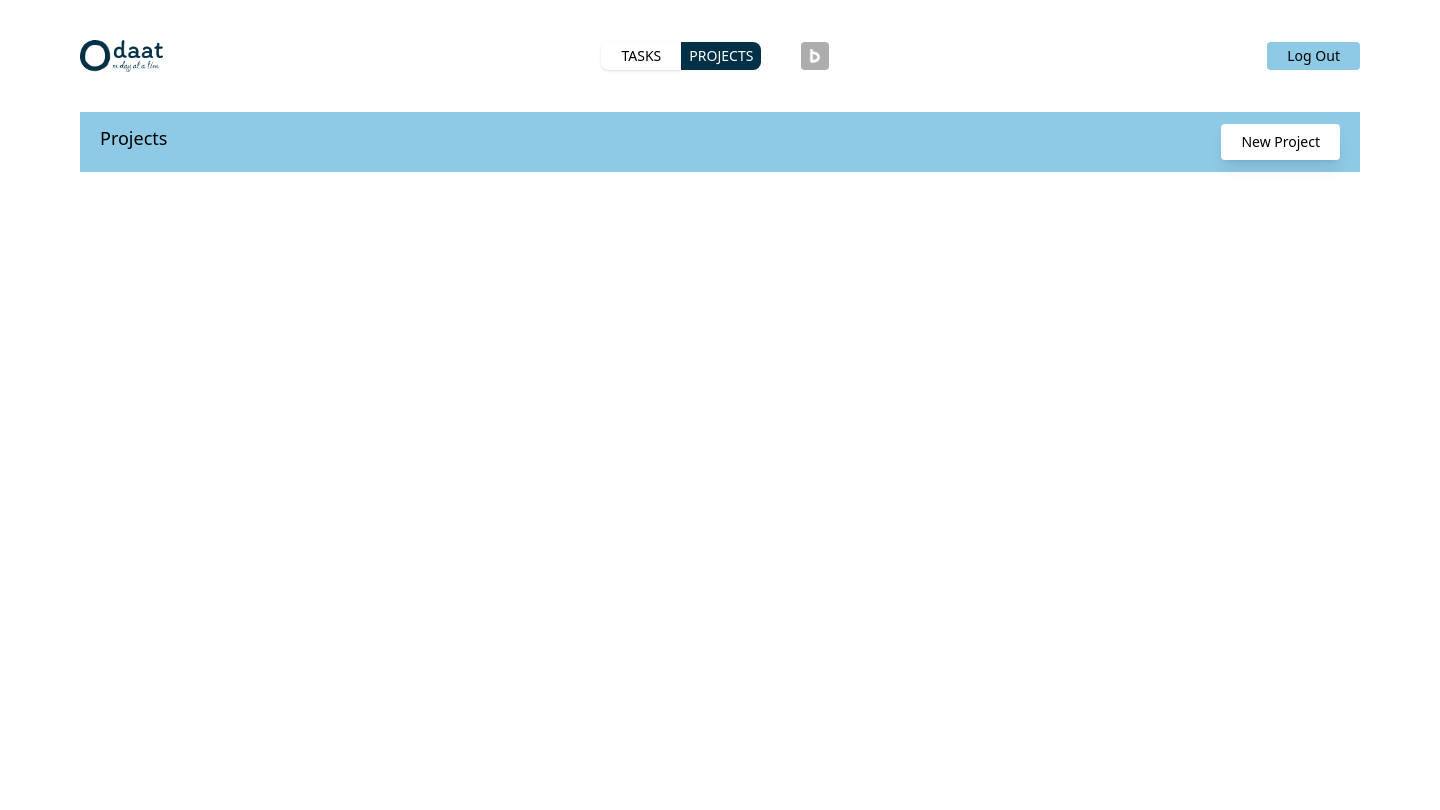
Test: Projects Component › open and close NewProjectModal
Expected: the heading "Projects" is shown, [100,124,167,160]
# Click on New Project button
Click the button "New Project": [1281, 142] box [1221,124,1340,160]
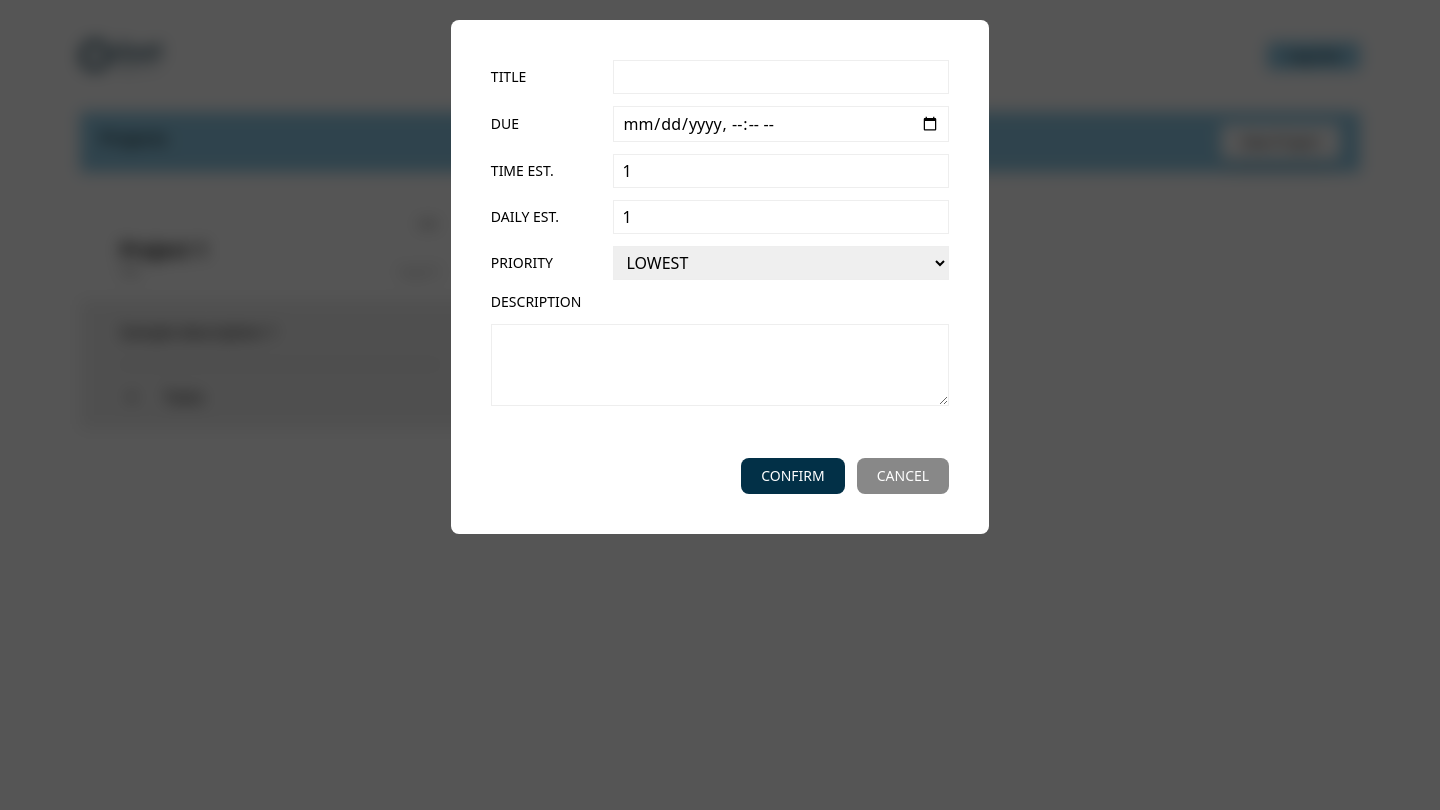
Now the button "Confirm" is shown, box [741,458,845,494]
# Click on Cancel button in NewProjectModal
Click the button "Cancel": [903, 476] box [857,458,949,494]
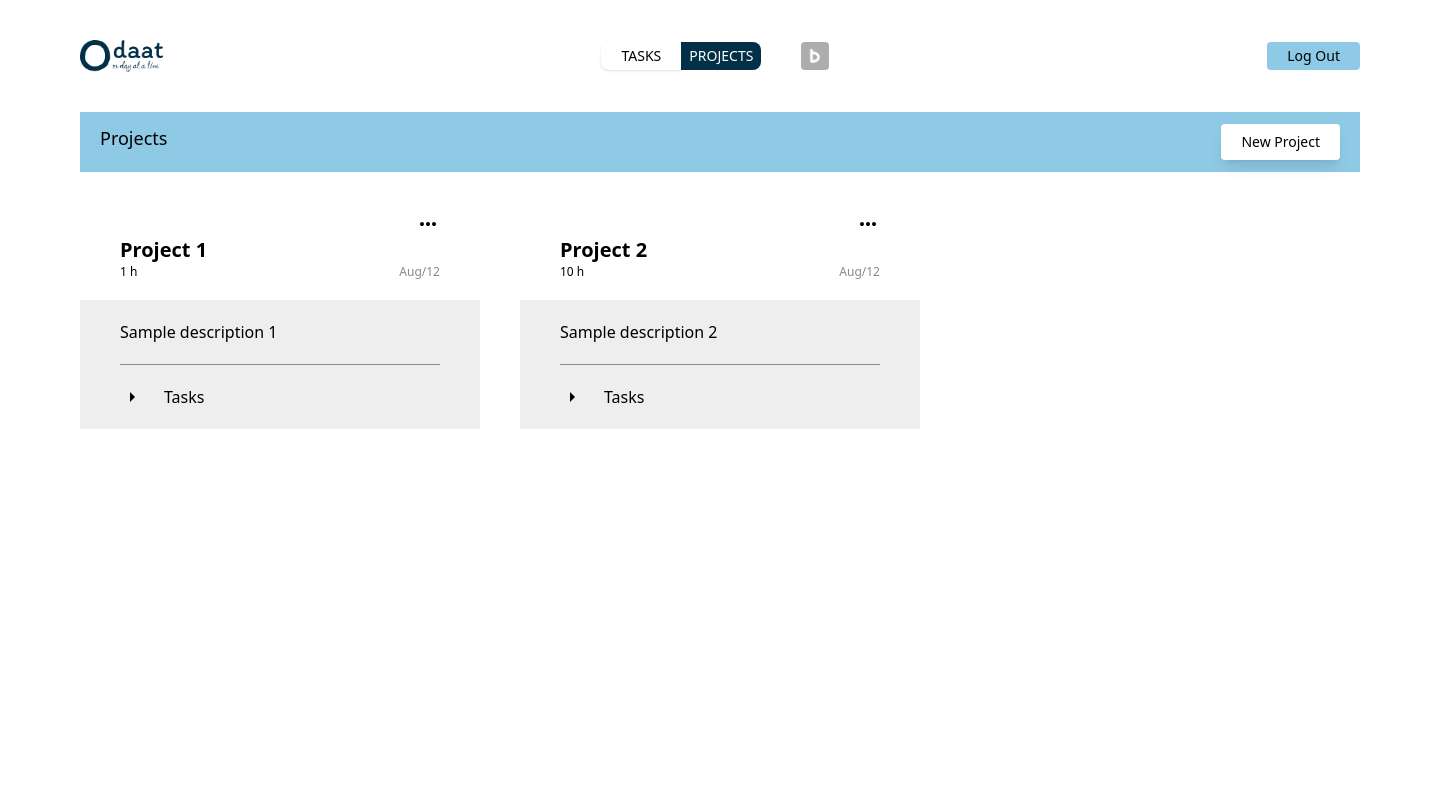
Now the button "Confirm" is gone
